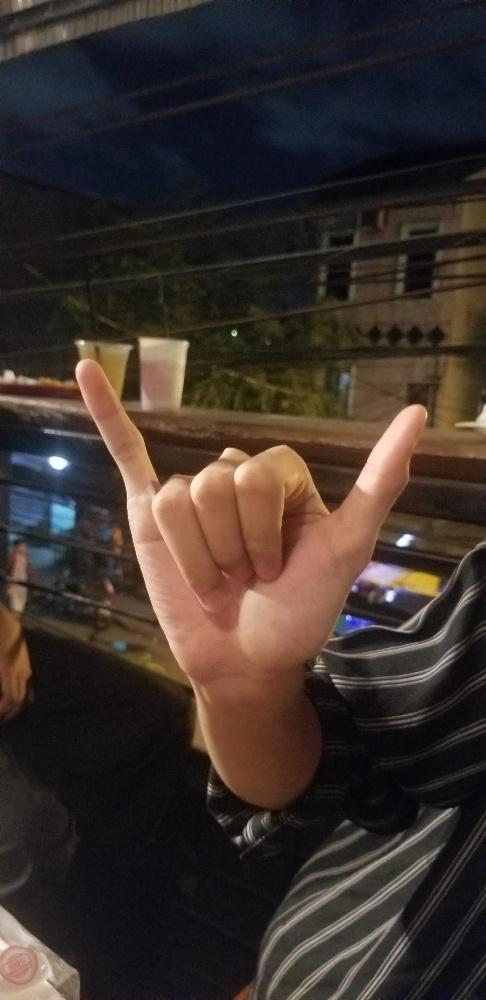y: (70, 351, 429, 673)
